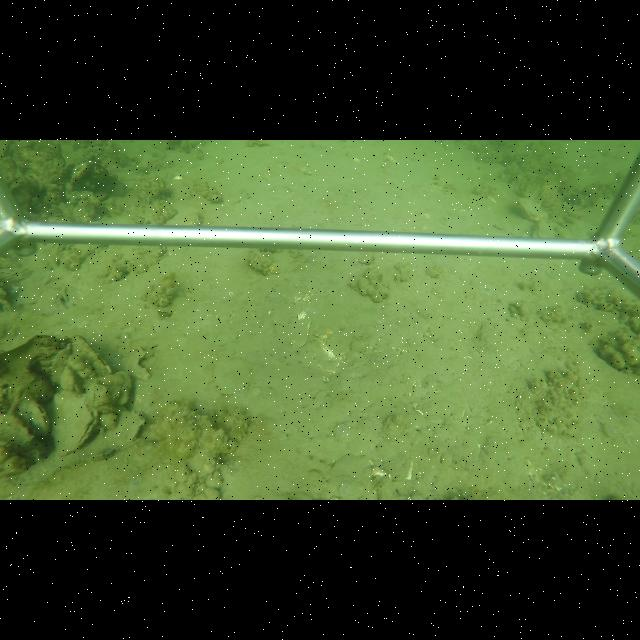Oyster-Closed: (50, 389, 100, 455), (71, 332, 113, 380), (27, 400, 51, 438), (514, 196, 546, 222), (533, 220, 557, 240), (87, 384, 103, 408), (108, 387, 124, 405), (158, 306, 174, 318)
